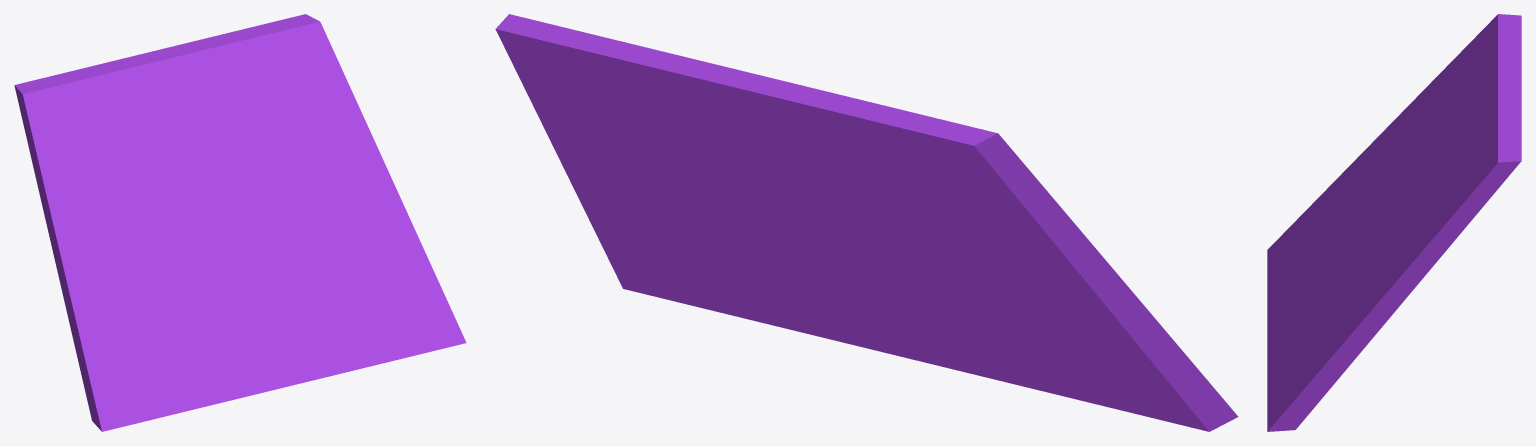
The model's file is Window_91_chunks.fbx.
The picture shows the model from 3 angles, left to right: view 1: azimuth 30°, elevation 25°; view 2: azimuth 150°, elevation 25°; view 3: azimuth 270°, elevation 25°; orthographic projection. The views are drawn at different scales.
Parts seen in each view (by area): view 1: Window_91_0, Window_91_6, Window_91_7, Window_91_25, Window_91_8, Window_91_5, Window_91_4, Window_91_21, Window_91_26, Window_91_28, Window_91_32, Window_91_14 (+17 smaller); view 2: Window_91_7, Window_91_6, Window_91_4, Window_91_26, Window_91_3, Window_91_8, Window_91_27, Window_91_30, Window_91_2, Window_91_20, Window_91_21, Window_91_25 (+13 smaller); view 3: Window_91_4, Window_91_0, Window_91_27, Window_91_6, Window_91_25, Window_91_7, Window_91_26, Window_91_32, Window_91_28, Window_91_30, Window_91_5, Window_91_8 (+17 smaller).
Boxes of the visible parts, <box> form: Window_91_0: <box>81,310,241,431</box>; Window_91_6: <box>51,192,186,347</box>; Window_91_7: <box>14,75,118,243</box>; Window_91_25: <box>272,122,397,197</box>; Window_91_8: <box>144,101,224,244</box>; Window_91_5: <box>319,191,400,294</box>; Window_91_4: <box>371,198,466,345</box>; Window_91_21: <box>202,86,297,209</box>; Window_91_26: <box>187,28,290,151</box>; Window_91_28: <box>240,22,315,126</box>; Window_91_32: <box>43,66,148,141</box>; Window_91_14: <box>194,208,278,294</box>; Window_91_7: <box>905,125,1089,281</box>; Window_91_6: <box>932,234,1177,362</box>; Window_91_4: <box>566,172,751,299</box>; Window_91_26: <box>592,46,726,167</box>; Window_91_3: <box>779,225,1008,335</box>; Window_91_8: <box>721,110,939,269</box>; Window_91_27: <box>495,14,634,146</box>; Window_91_30: <box>691,63,853,158</box>; Window_91_2: <box>986,302,1221,405</box>; Window_91_20: <box>712,247,888,318</box>; Window_91_21: <box>692,117,817,216</box>; Window_91_25: <box>553,137,694,198</box>; Window_91_4: <box>1267,305,1396,431</box>; Window_91_0: <box>1267,190,1343,318</box>; Window_91_27: <box>1411,145,1521,282</box>; Window_91_6: <box>1326,104,1419,200</box>; Window_91_25: <box>1376,202,1434,308</box>; Window_91_7: <box>1410,14,1521,127</box>; Window_91_26: <box>1422,100,1521,203</box>; Window_91_32: <box>1454,24,1521,107</box>; Window_91_28: <box>1433,122,1521,214</box>; Window_91_30: <box>1465,54,1521,132</box>; Window_91_5: <box>1313,260,1384,344</box>; Window_91_8: <box>1375,133,1464,204</box>.
Size of the model in its own units: 1281 by 829 by 756.
